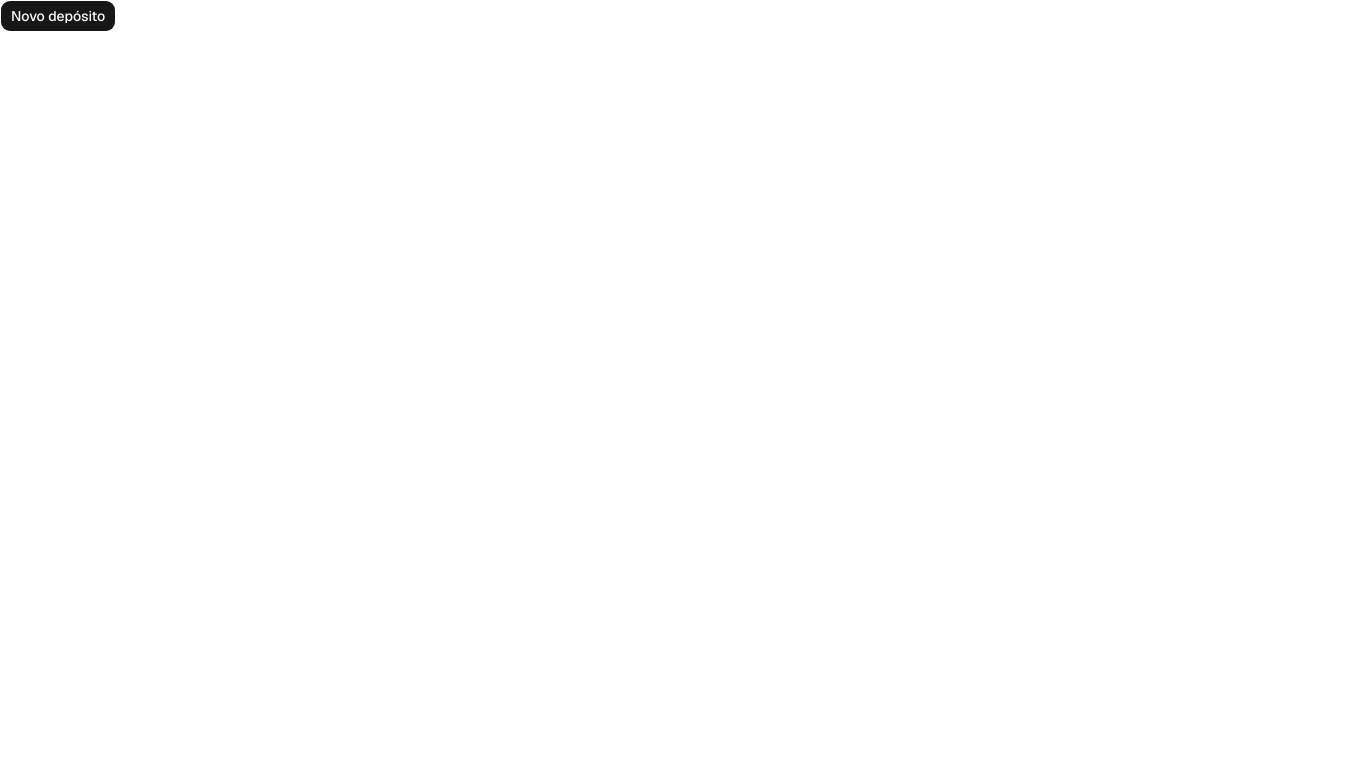
Test: CreateWarehouseDialog › shows field errors and stays open
Step 1. Click the button "Novo depósito" → coordinates (58, 16), box [0, 0, 116, 32]
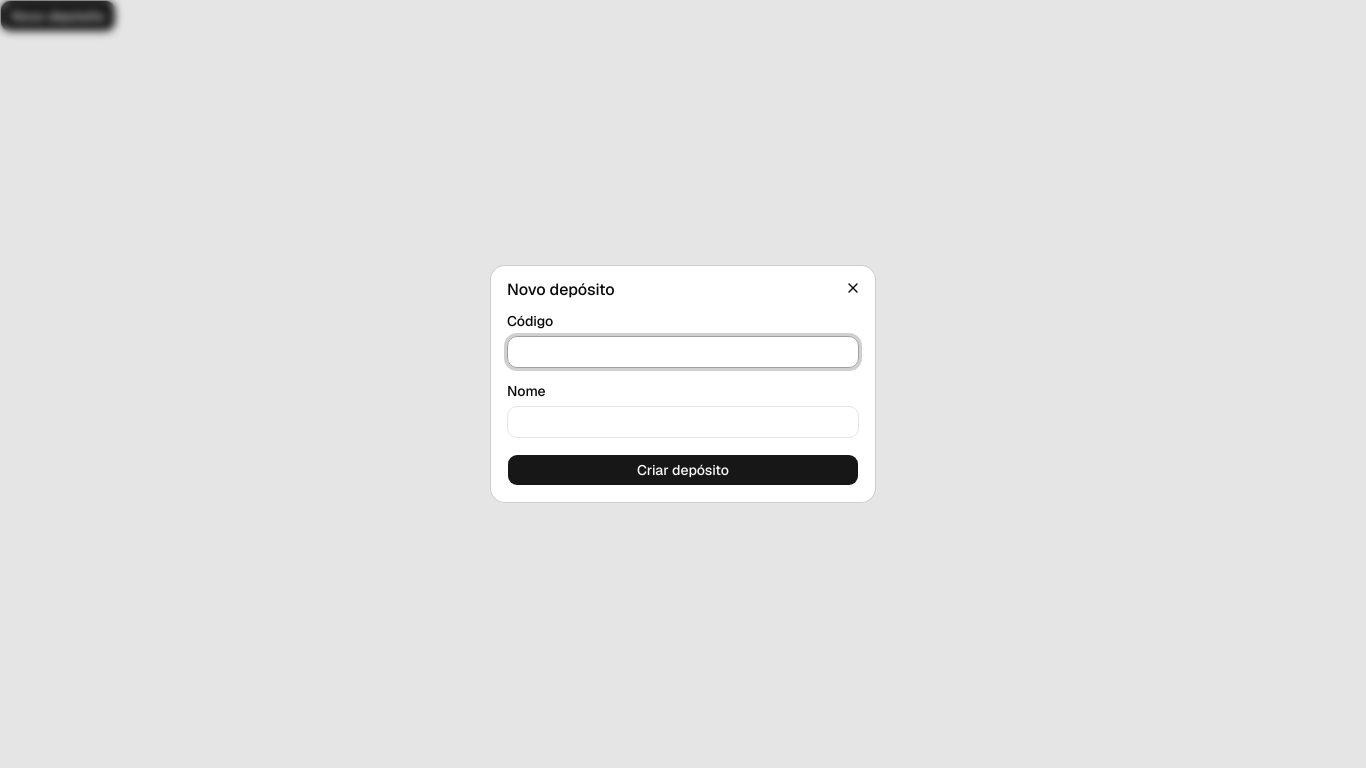
Step 2. Type "CD-1" into the field labelled "Código" → coordinates (683, 352), box [507, 336, 859, 368]
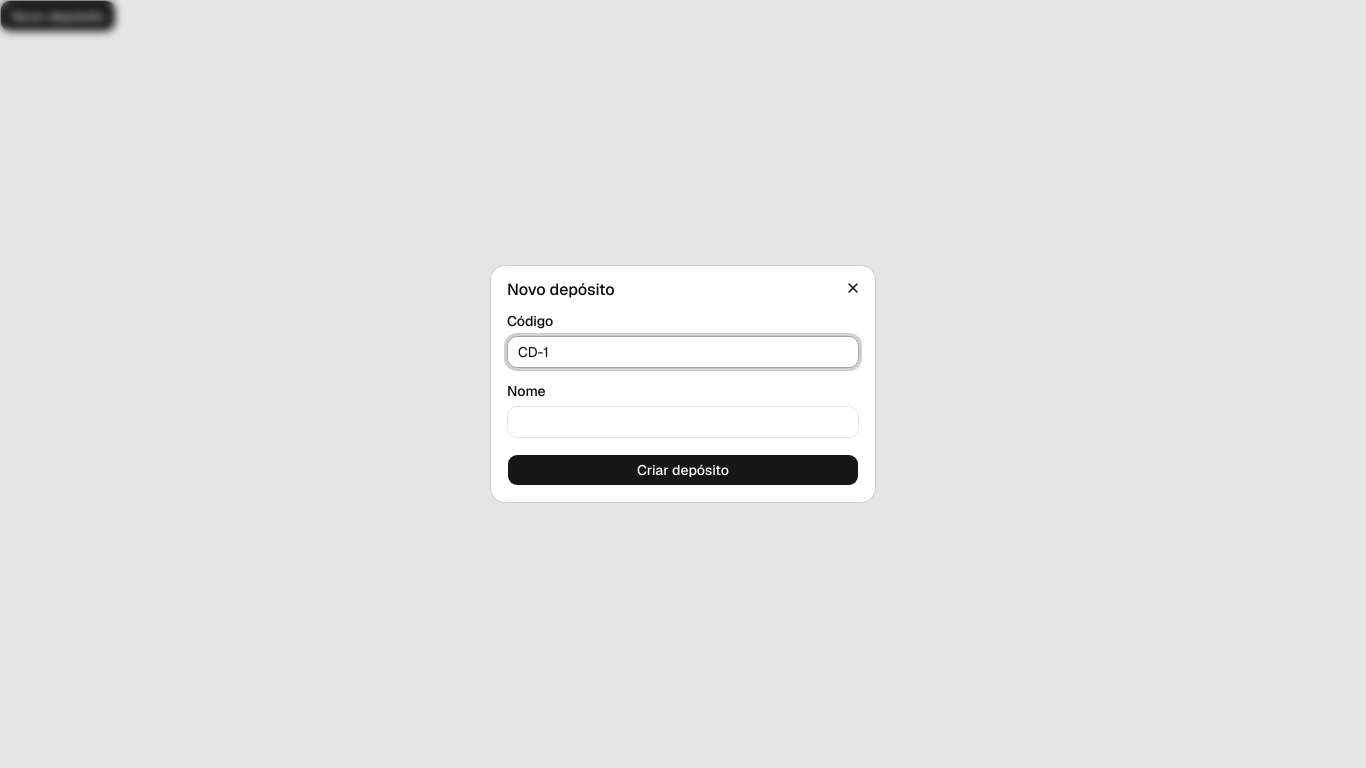
Step 3. Type "Central" into the field labelled "Nome" → coordinates (683, 422), box [507, 406, 859, 438]
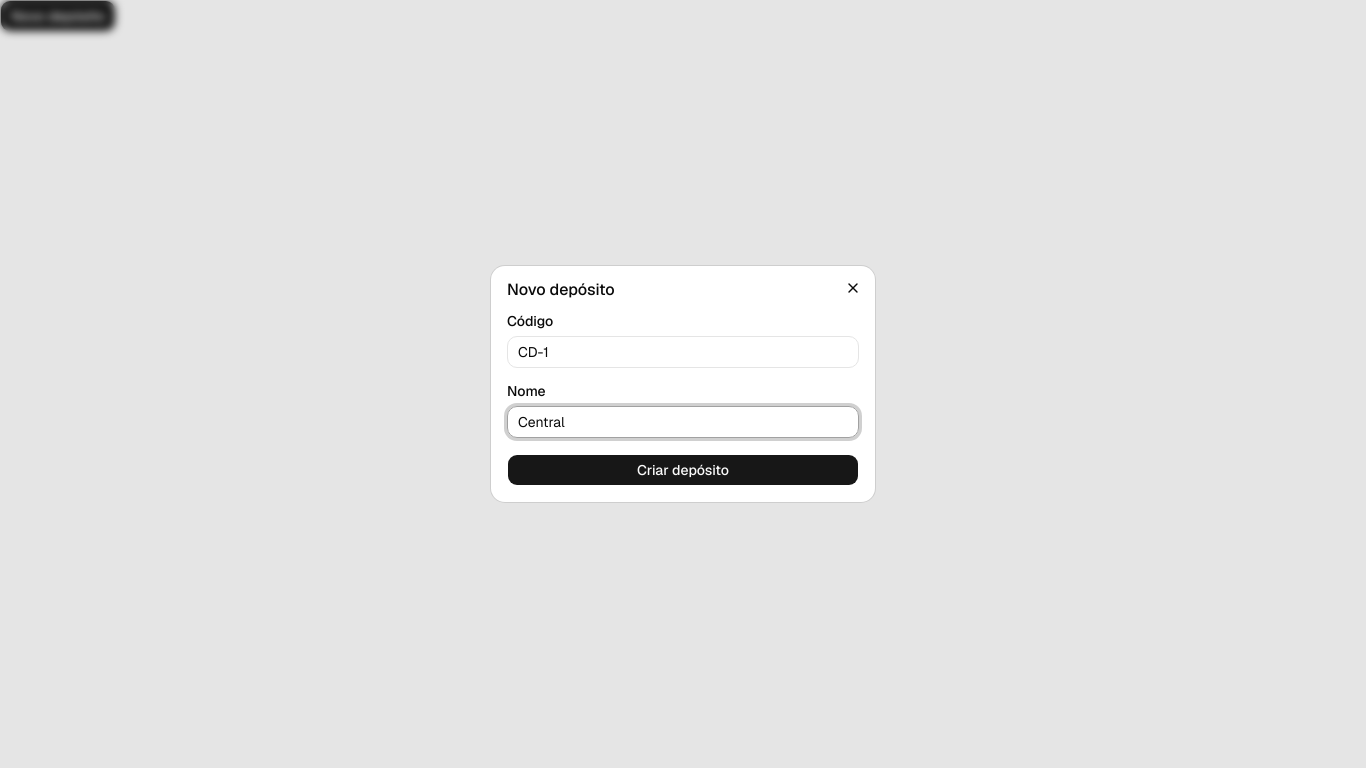
Step 4. Click the button "Criar depósito" → coordinates (683, 470), box [507, 454, 859, 486]
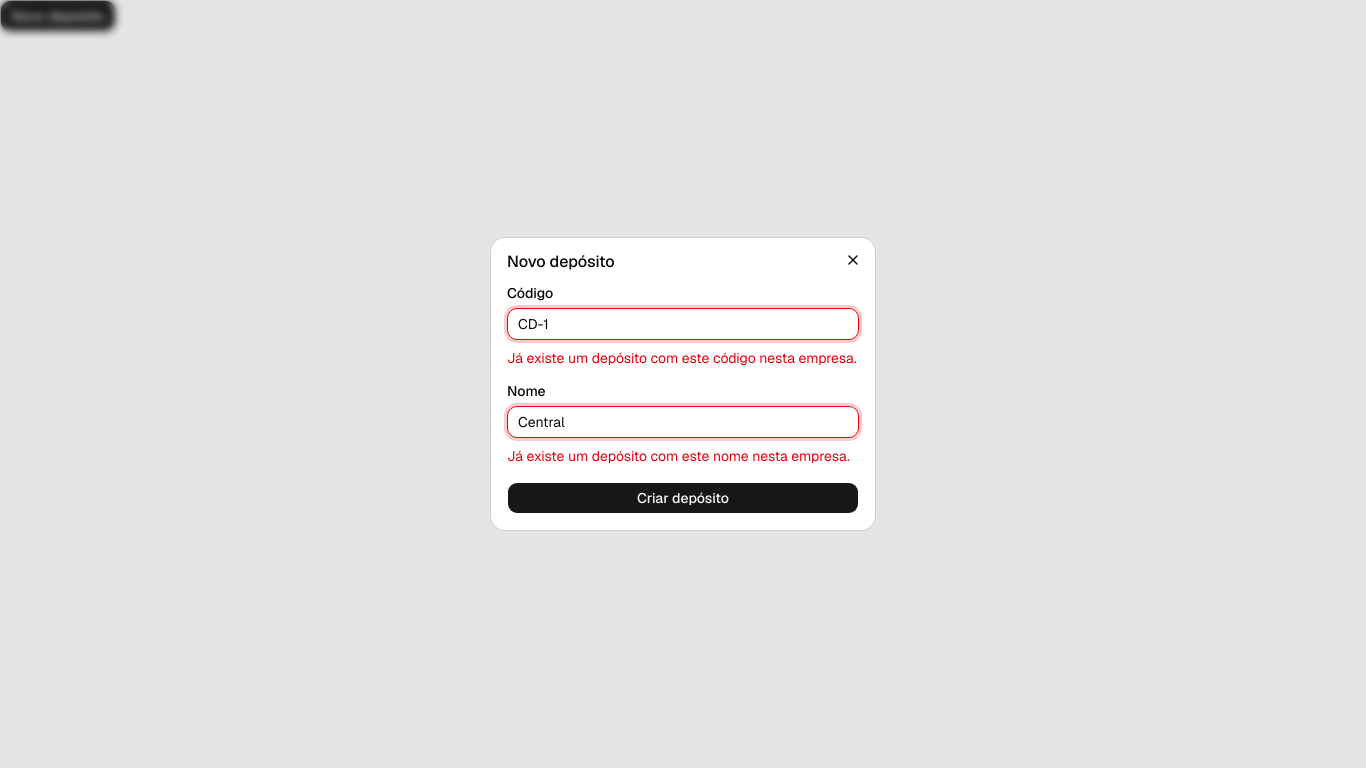
Expected: the dialog is shown, [491, 238, 875, 530]
Expected: the text "Já existe um depósito com este código nesta empresa." is shown, [507, 348, 859, 368]
